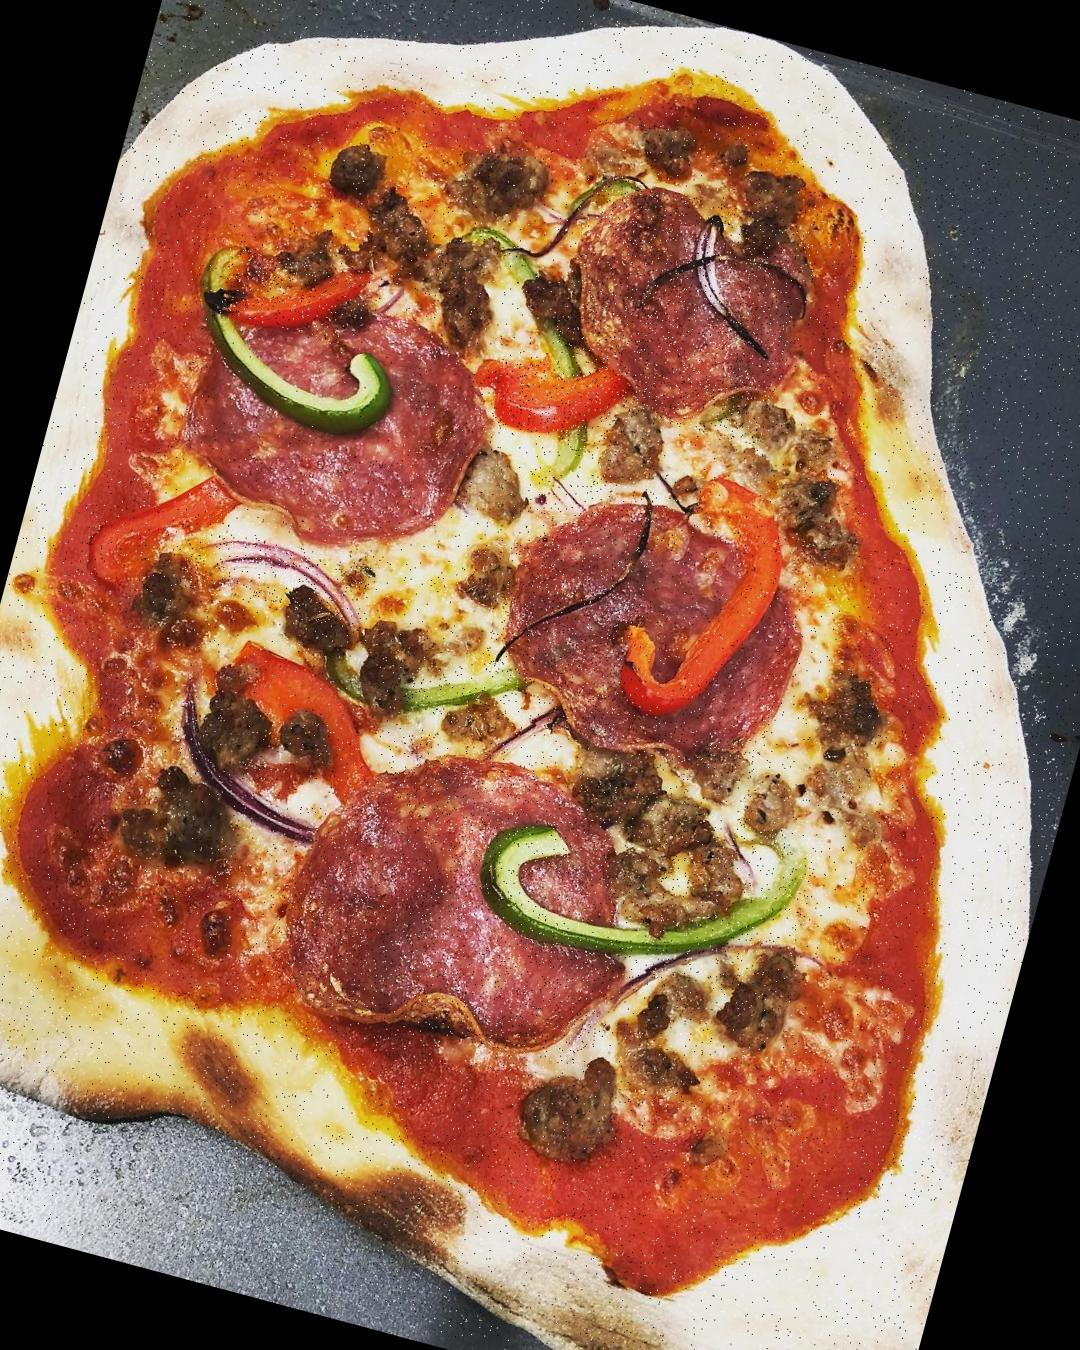Onion: (136, 682, 364, 874), (175, 519, 375, 633)
Pepperoni: (258, 704, 662, 1072), (469, 462, 821, 784), (166, 264, 500, 564), (540, 172, 819, 449)
Peppers: (467, 756, 827, 1008), (615, 454, 818, 744), (172, 271, 422, 462), (198, 620, 417, 804), (82, 450, 239, 606), (475, 333, 642, 468), (217, 238, 376, 348), (379, 648, 533, 738)
Pizza: (0, 0, 1080, 1350)
